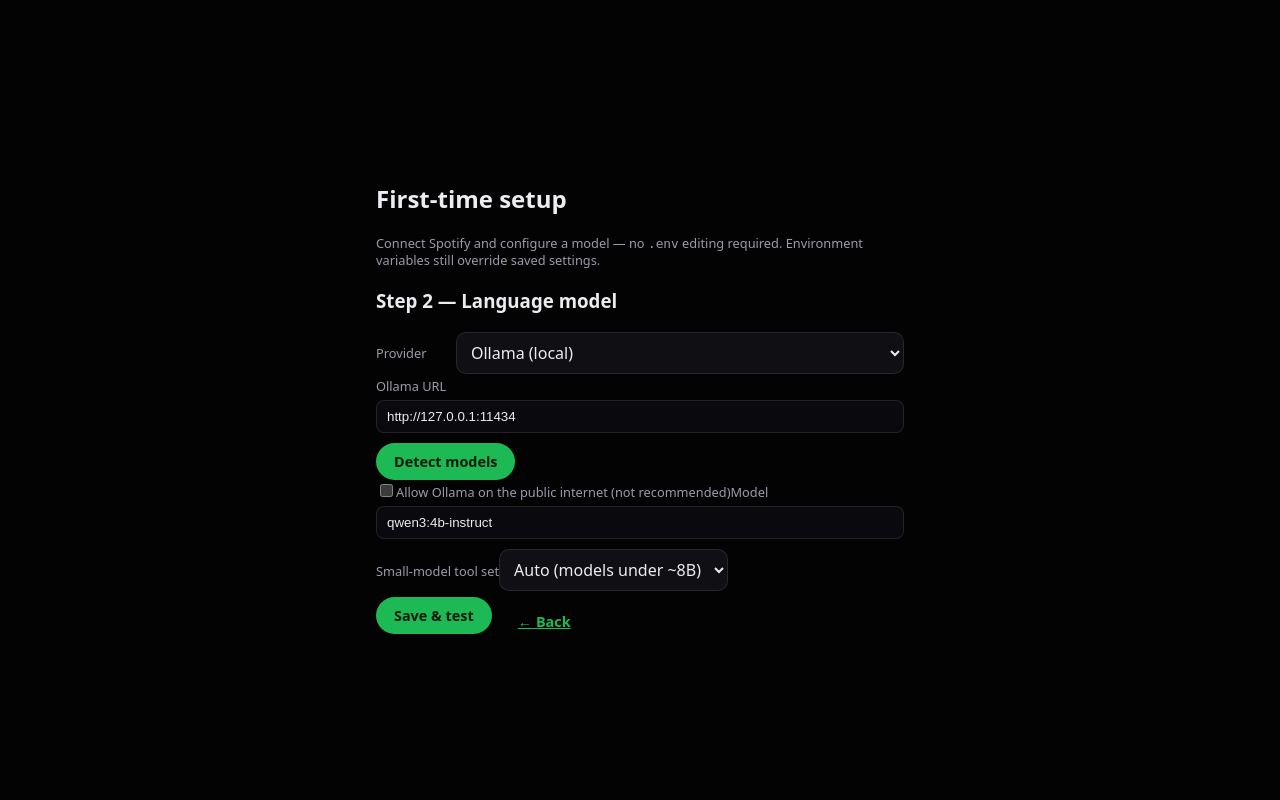
Test: item08_setup_wizard_manual_open_stays_open › shows Saved after LLM save
Expected: the heading "Step 2 — Language model" is shown, left=376, top=288, right=617, bottom=313
Click the button "Save & test": [434, 615] box left=376, top=597, right=492, bottom=634
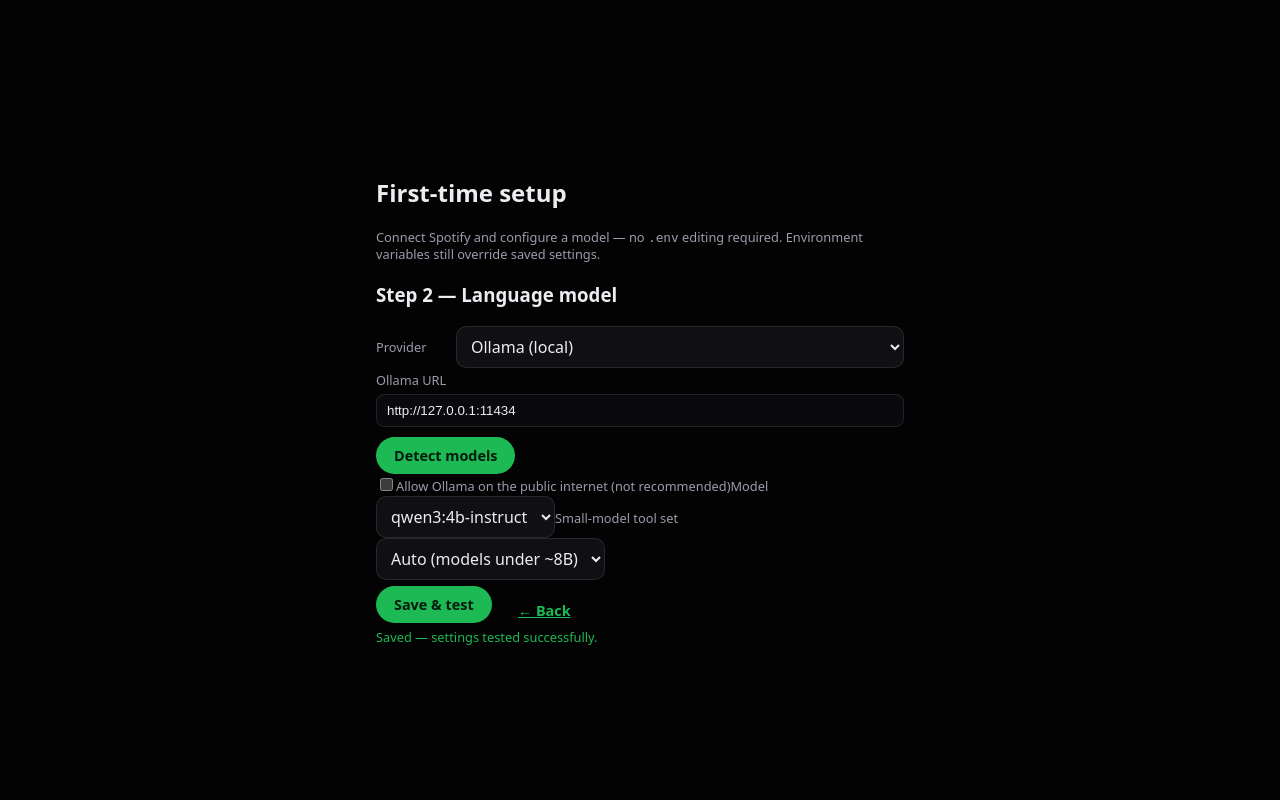
Expected: the text "Saved — settings tested successfully." is shown, left=376, top=628, right=598, bottom=646
